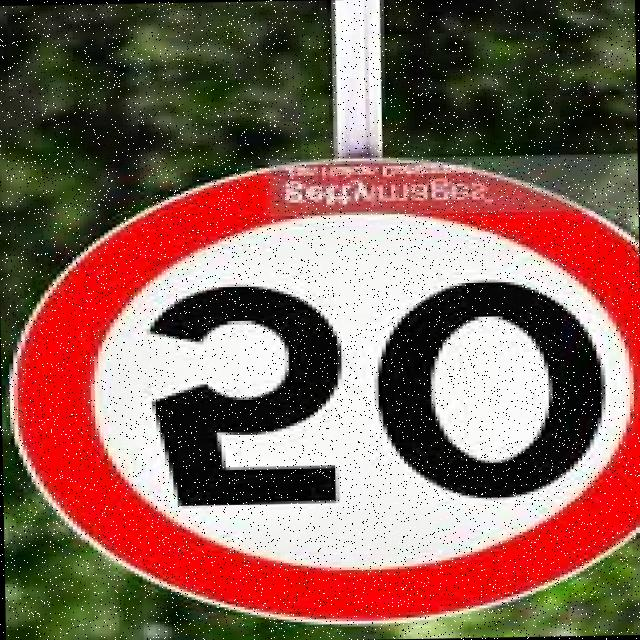speed_limit_50: (0, 147, 640, 640)
